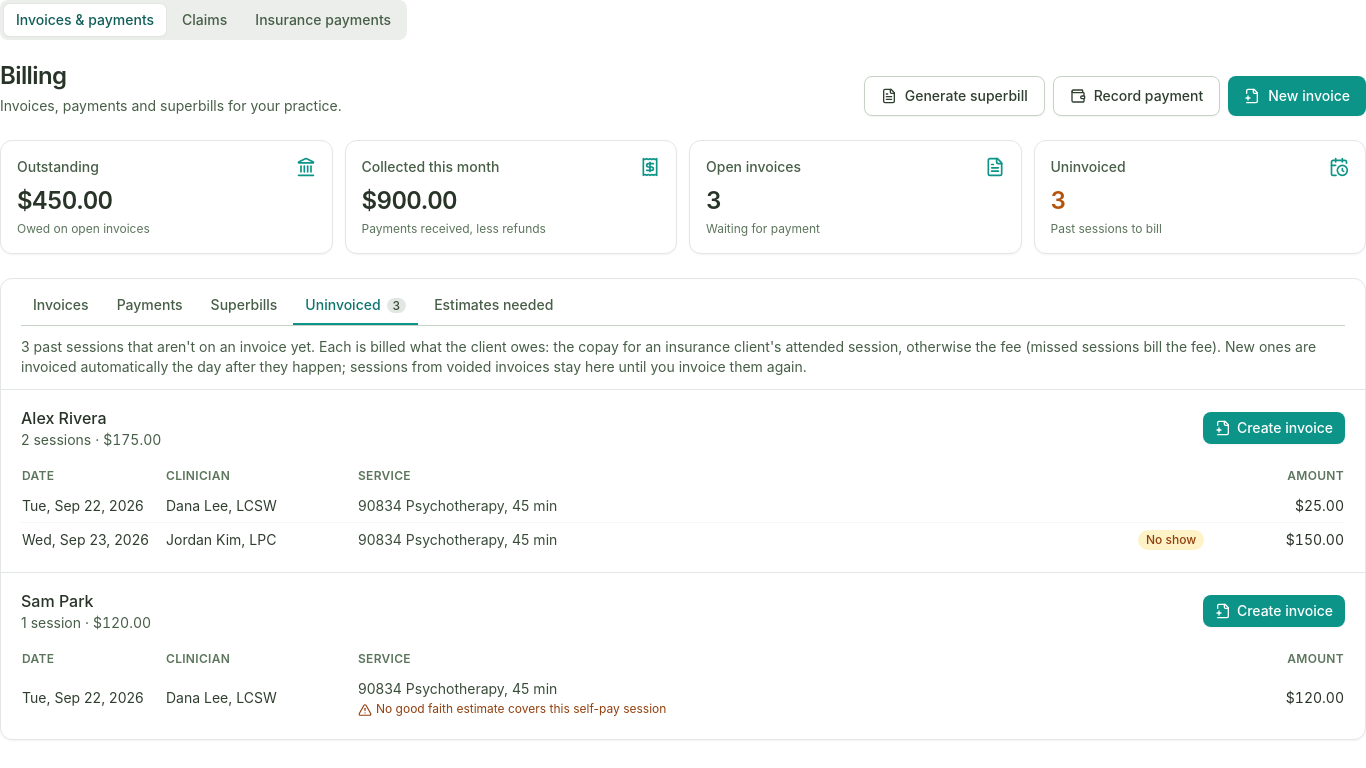
Test: BillingPage › lists uninvoiced sessions per client with their clinicians and invoices the chosen participants
The width and height of the screenshot is (1366, 768).
Expected: the column heading "Clinician" below "Alex Rivera" is shown, x1=165 y1=462 x2=357 y2=490
Expected: the text "Dana Lee, LCSW" in the row of "$25.00" is shown, x1=166 y1=497 x2=277 y2=514
Click the button with aria-label "Create invoice for Alex Rivera": (1274, 428) x1=1203 y1=412 x2=1345 y2=444
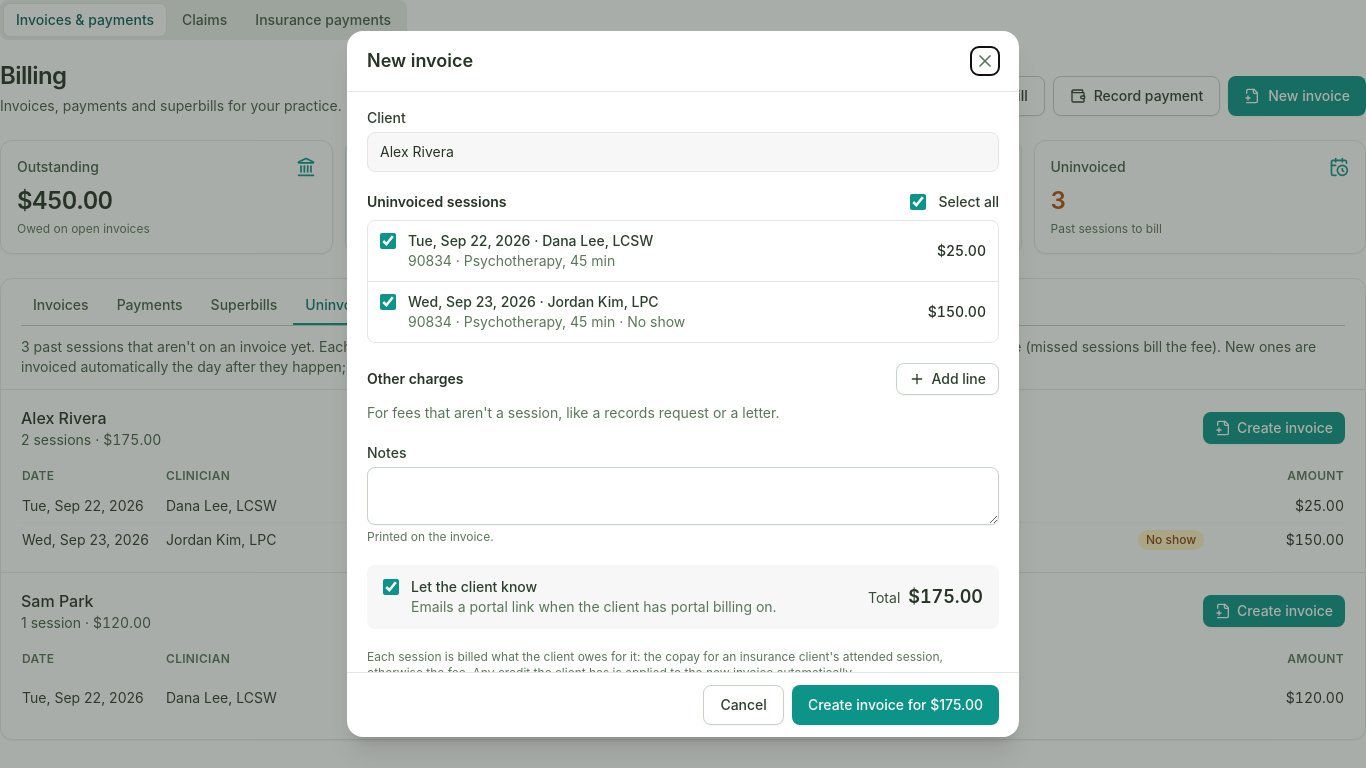
Now the checkbox labelled "Dana Lee, LCSW" is checked, box x1=380 y1=233 x2=396 y2=249
Now the checkbox labelled "Jordan Kim, LPC" is checked
Now the button "Create invoice for $175.00" is shown, box x1=792 y1=685 x2=999 y2=725
Click the checkbox labelled "Jordan Kim, LPC": (388, 302) x1=380 y1=294 x2=396 y2=310
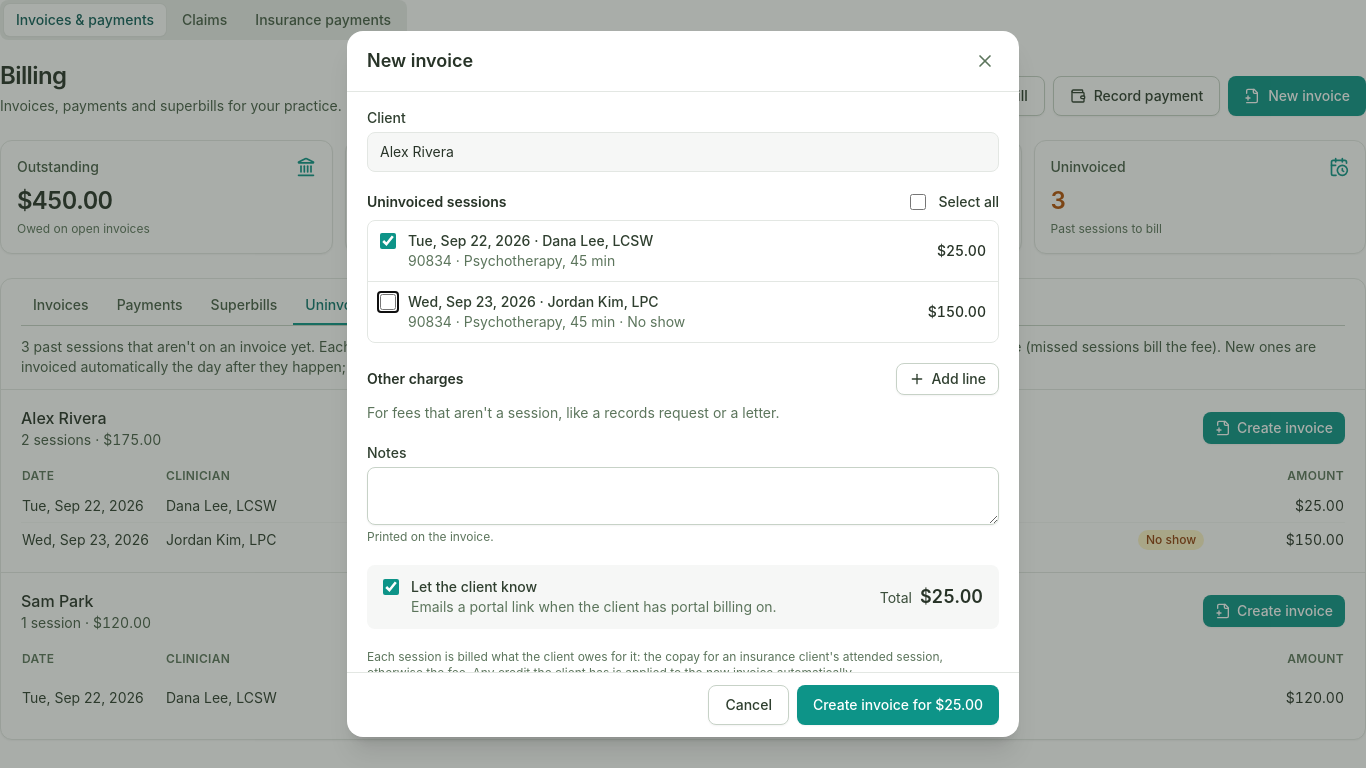
Click the button "Create invoice for $25.00": (898, 705) x1=797 y1=685 x2=999 y2=725
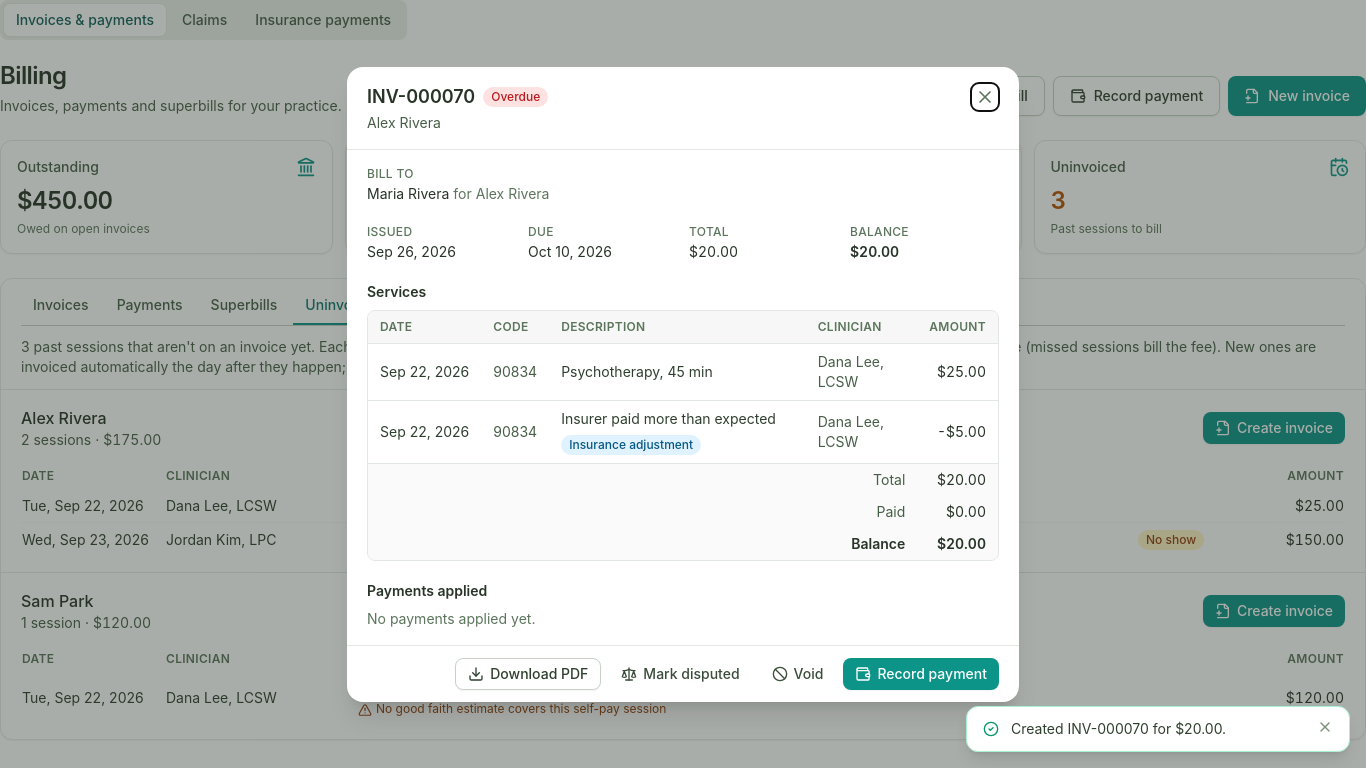
Now the text "Maria Rivera" is shown, box x1=367 y1=184 x2=449 y2=202
Now the text "Insurance adjustment" is shown, box x1=561 y1=434 x2=701 y2=454
Now the 1st text "Dana Lee, LCSW" is shown, box x1=806 y1=343 x2=917 y2=400
